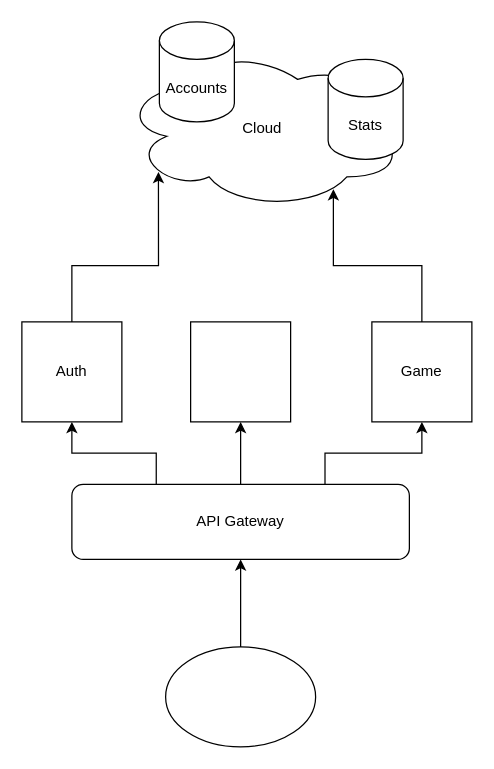
Some shapes in this 494 by 769 pixel diagram are drawn without their labels. Each missing label, with the centre of its shape:
Frontend: [240,696]
Matchmaker: [240,371]
